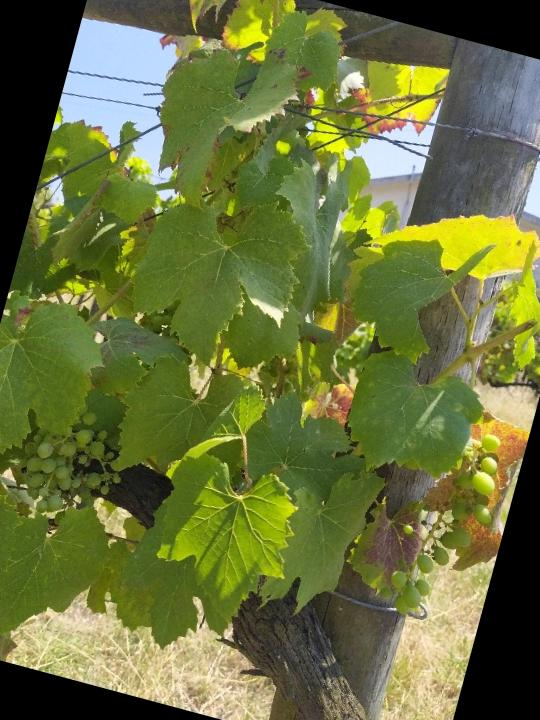grape: (378, 417, 516, 631), (3, 393, 138, 542)
